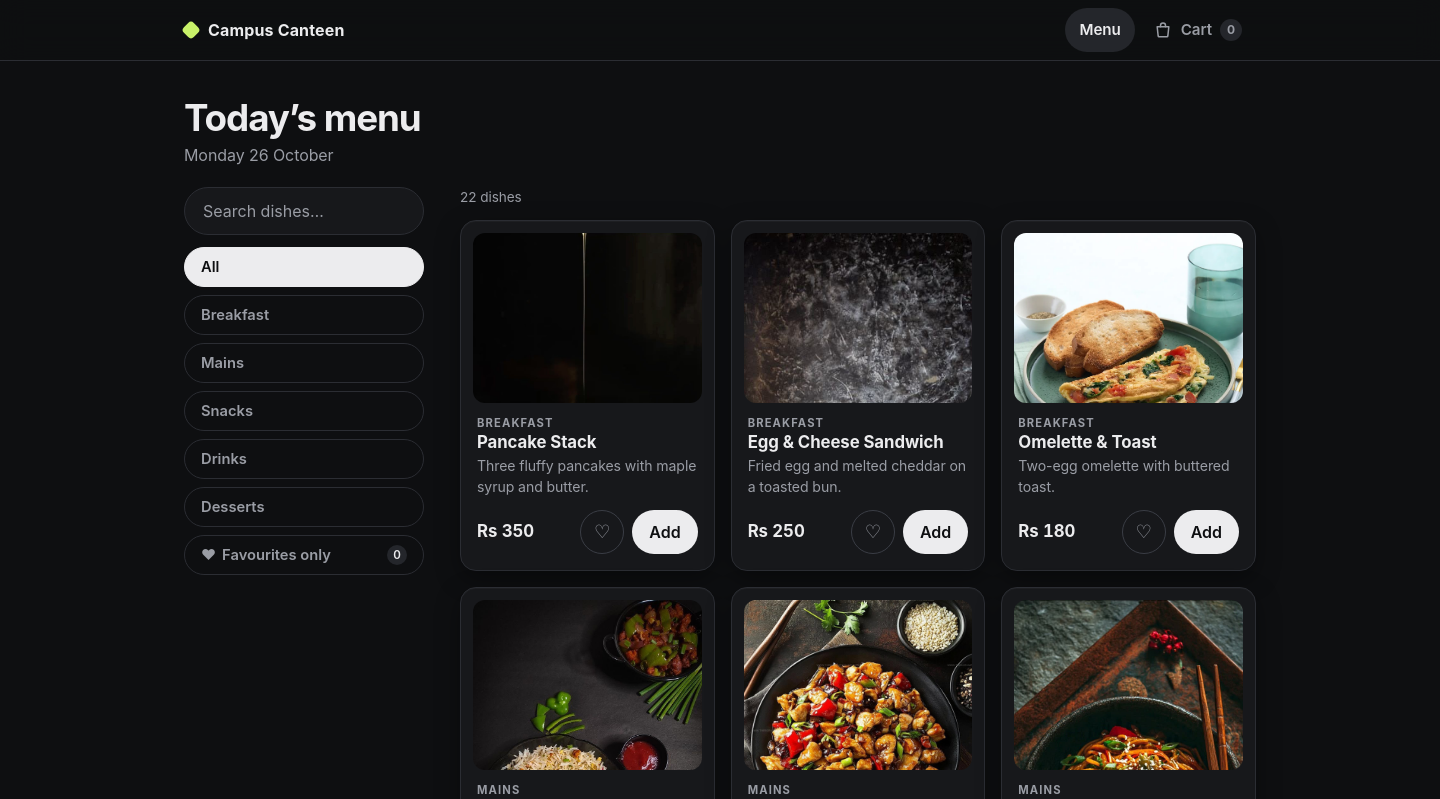
Scenario: filtering and favourites › filters by category and by search text
This screenshot has width=1440, height=799.
Step 1. Click the button "Drinks" → [304, 459], box [184, 439, 424, 479]
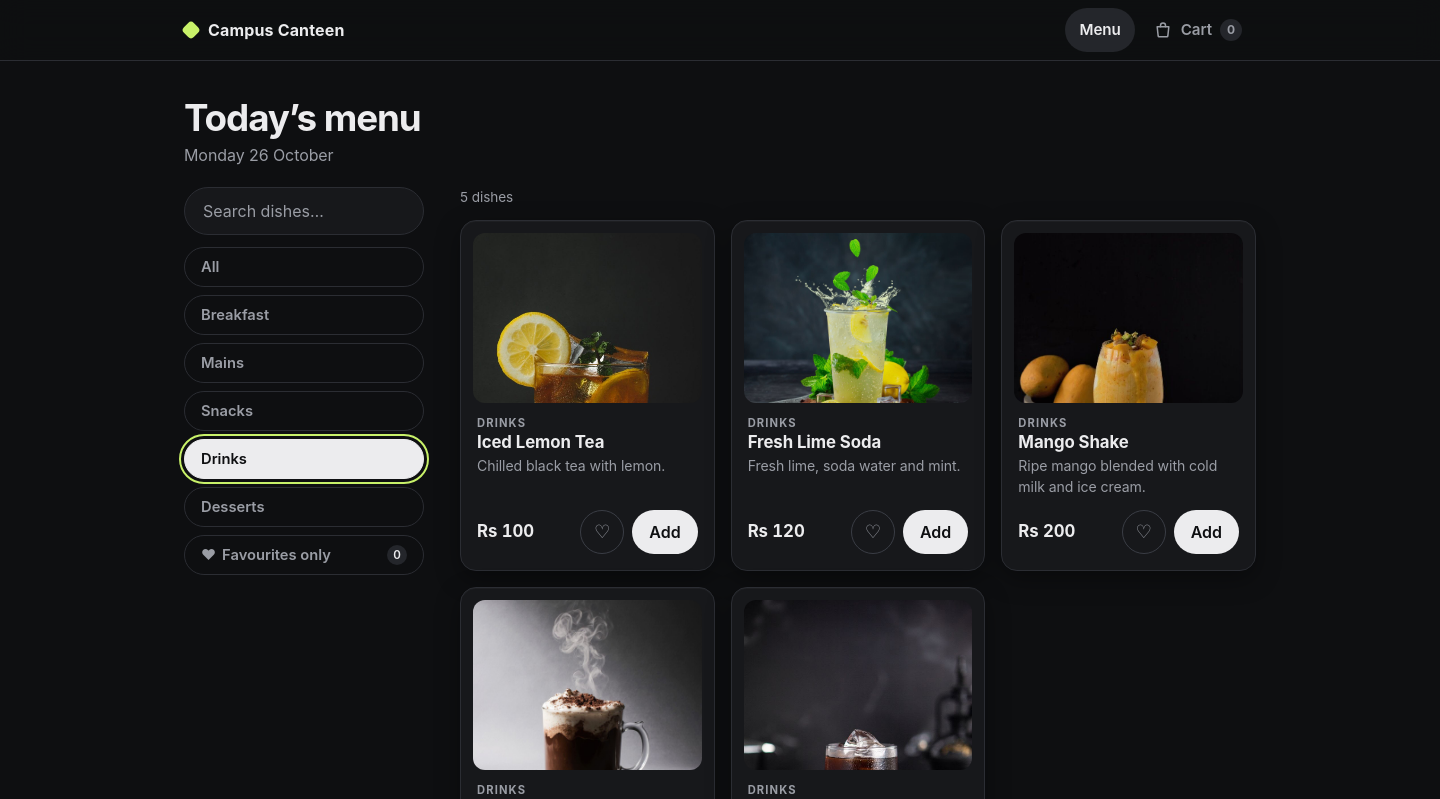
Expected: the heading "Mango Shake" is shown, [1018, 432, 1129, 452]
Step 2. Click the button "All" → [304, 267], box [184, 247, 424, 287]
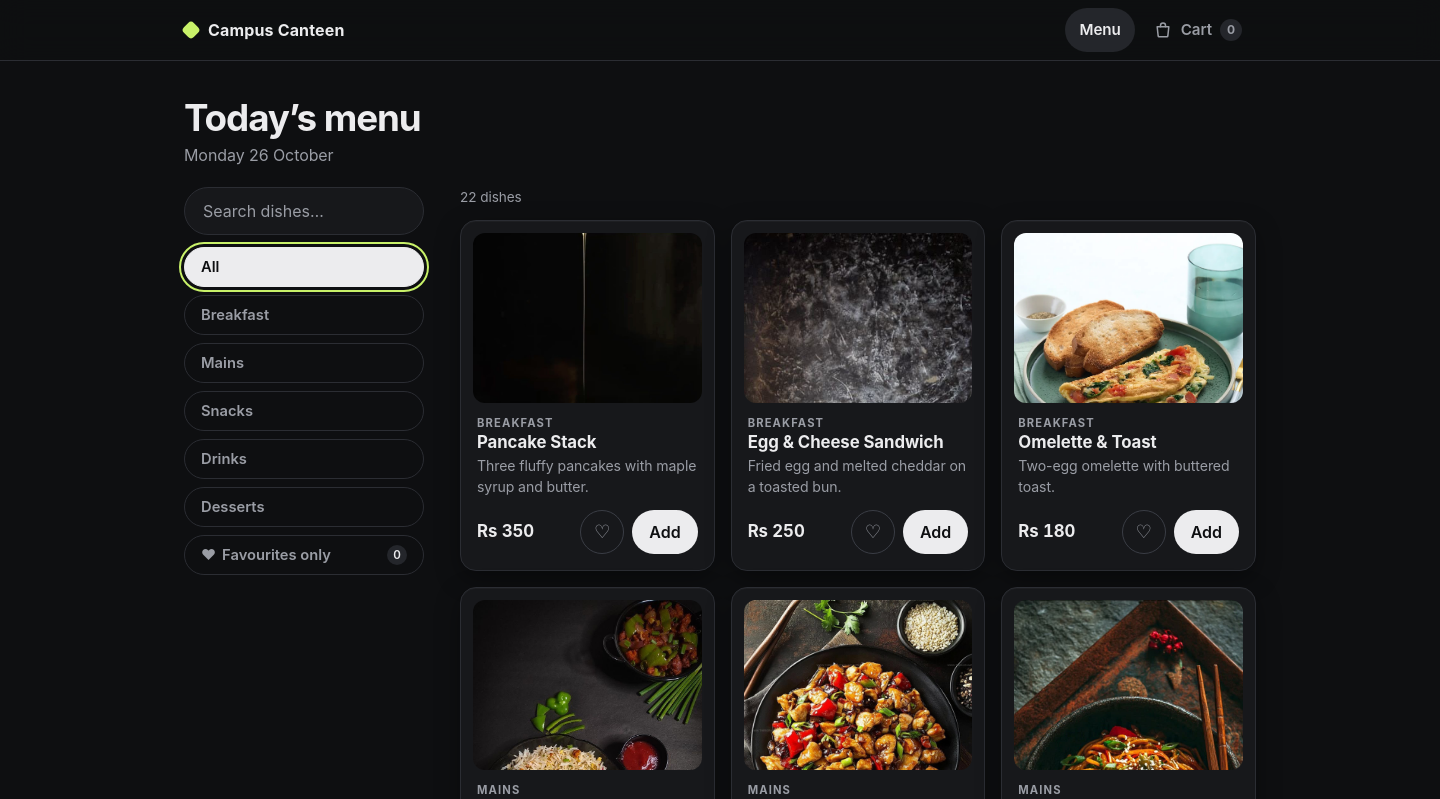
Step 3. Type "spring" into the search field named "Search the menu" → [304, 211], box [184, 187, 424, 235]
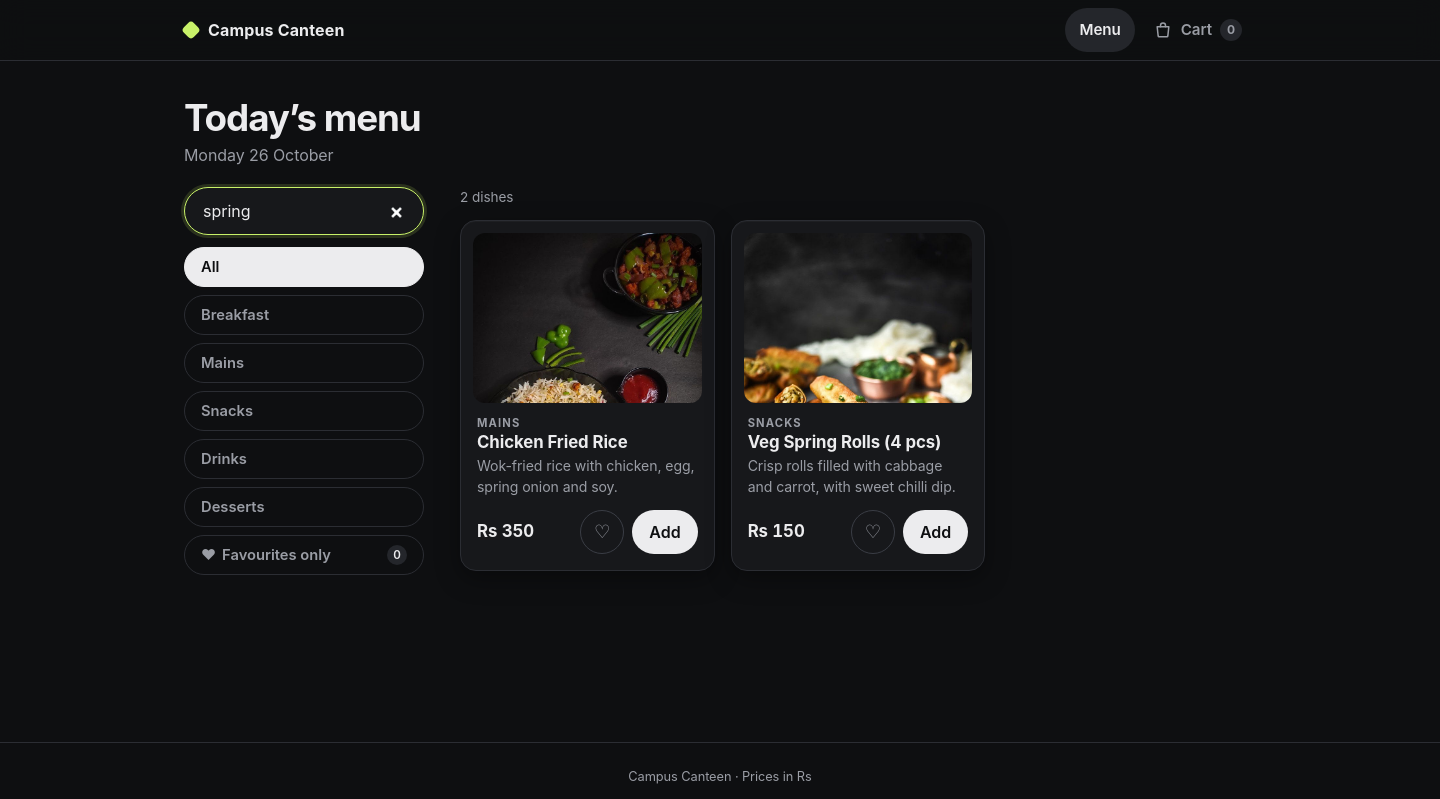
Expected: the link "Mango Shake" is not shown
Expected: the heading "Veg Spring Rolls (4 pcs)" is shown, [748, 432, 968, 453]
Step 4. Replace the text in the search field with "zzzz" → [304, 211], box [184, 187, 424, 235]
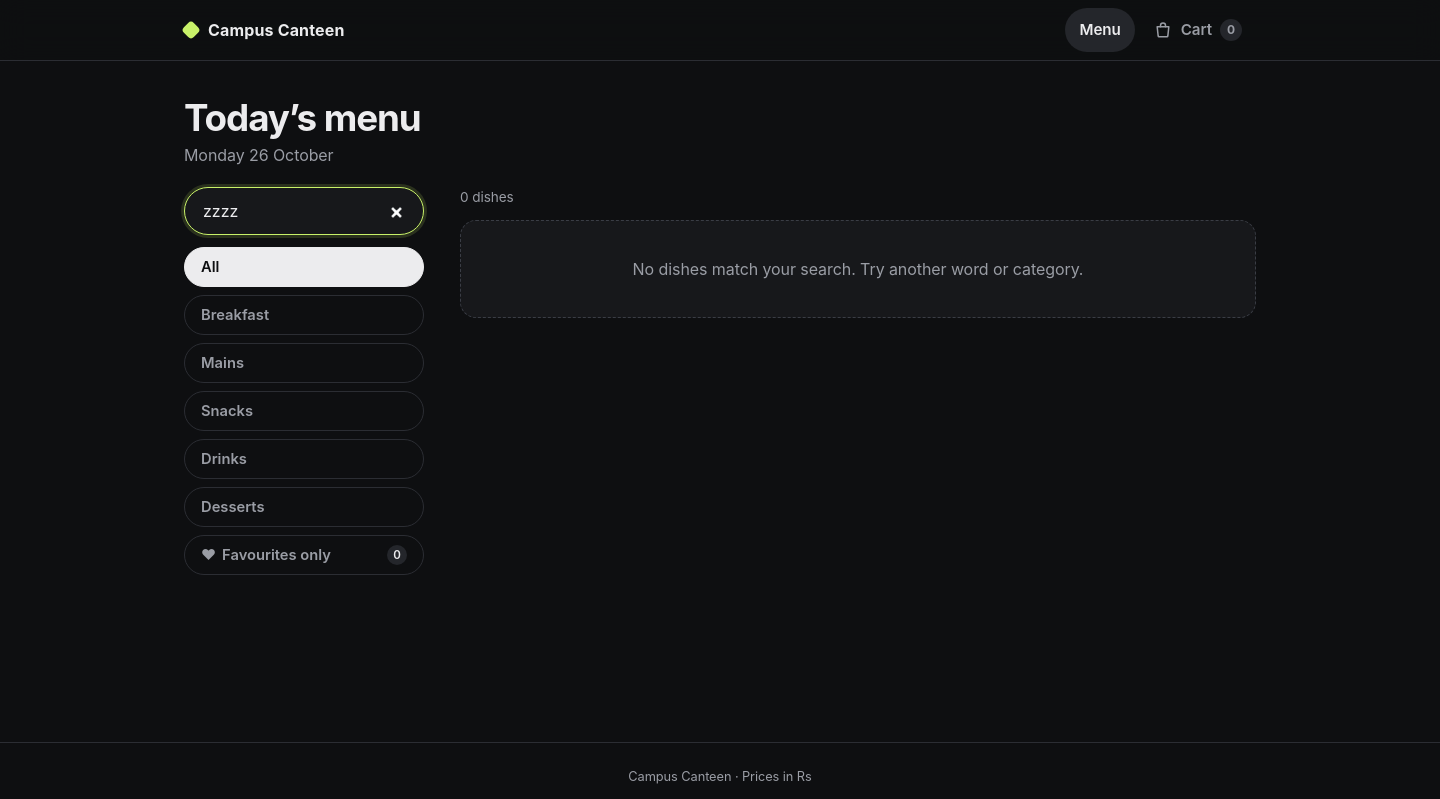
Expected: the text "No dishes match your search. Try another word or category." is shown, [460, 220, 1256, 318]
